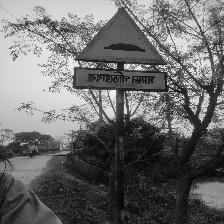Speed-breaker: (74, 6, 169, 93)
